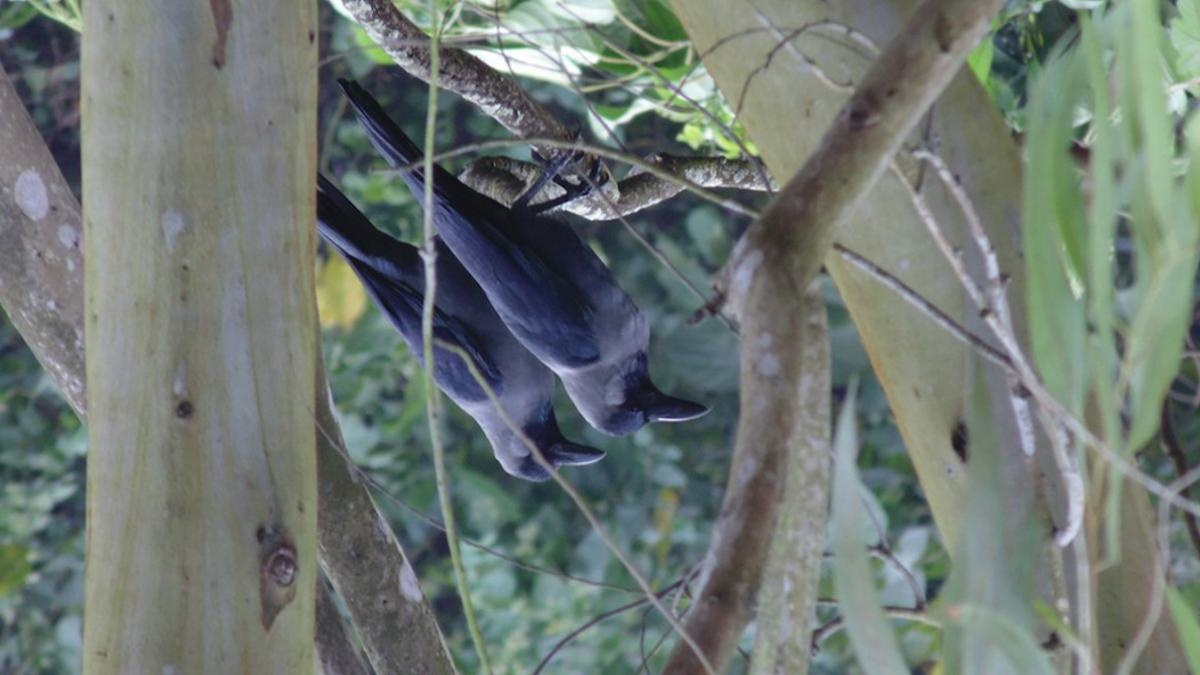crow: (360, 83, 709, 440), (308, 192, 610, 488)
